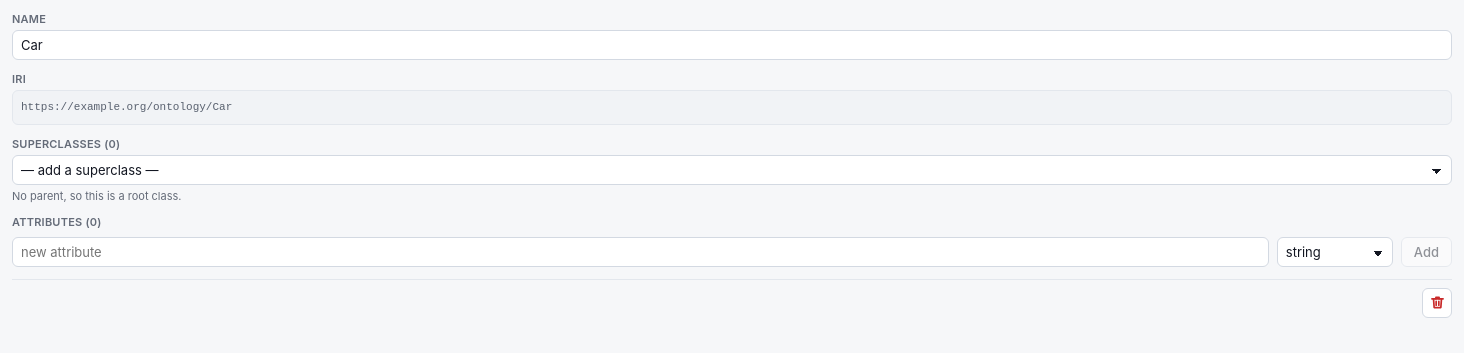
Test case: ClassDetails › restores the stored name if the field is abandoned while empty
The width and height of the screenshot is (1464, 353).
Clear the field named "Class local name" at (732, 45), box [12,30,1452,60]
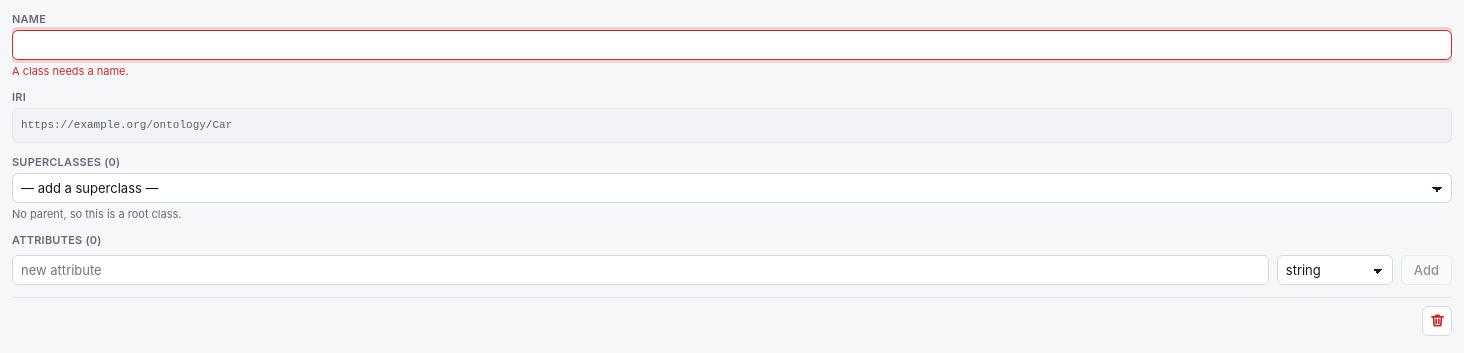
Press Tab
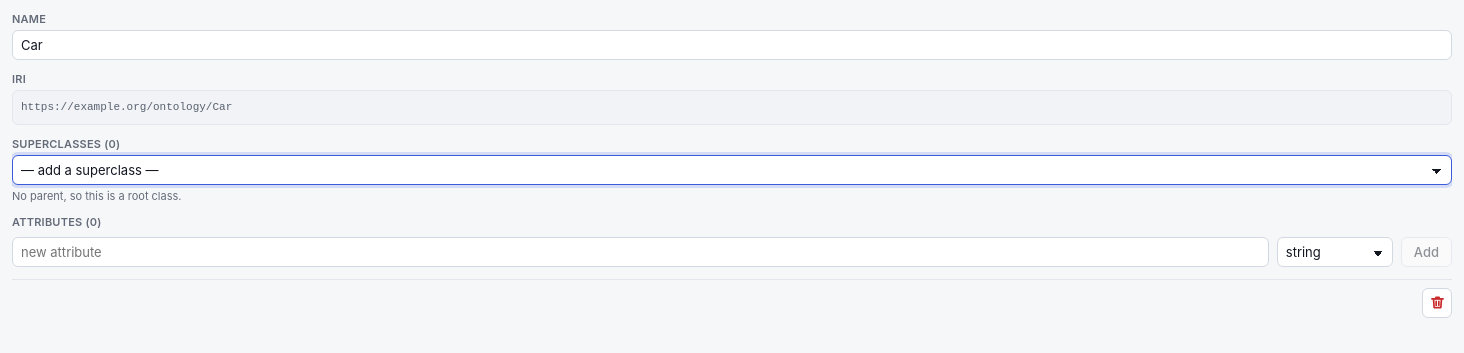
Result: the field named "Class local name" holds "Car" at [12,30,1452,60]
